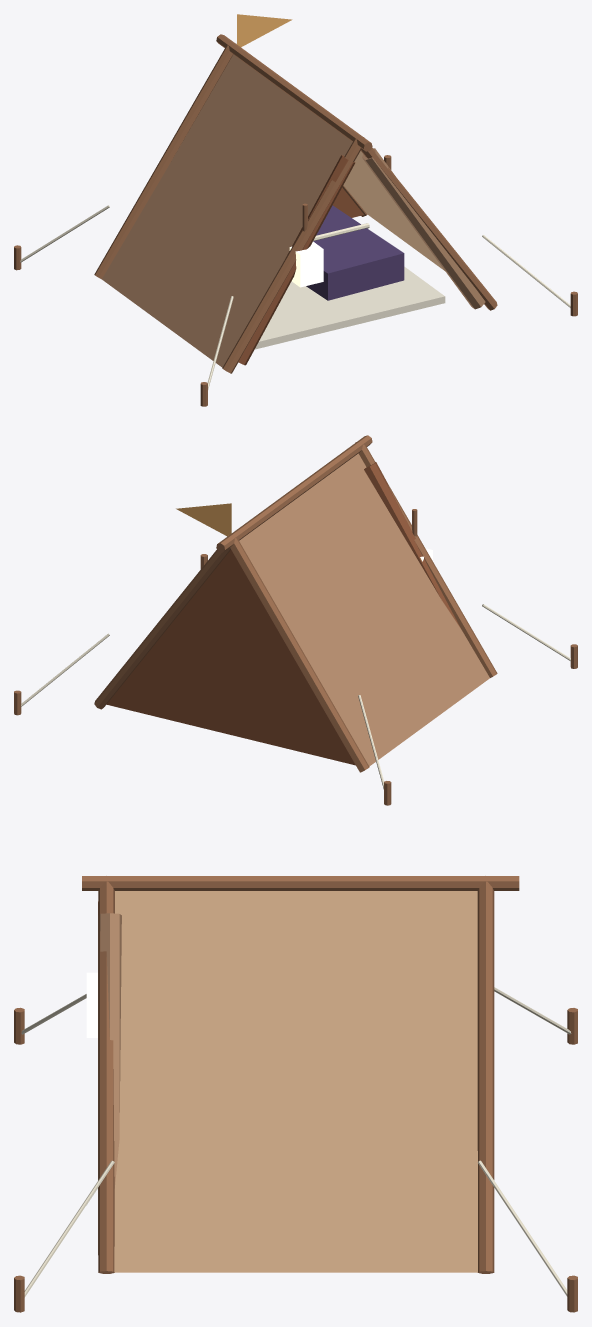
The model's file is harbor_tent.glb.
The picture shows the model from 3 angles, top to bottom: view 1: azimuth 30°, elevation 25°; view 2: azimuth 150°, elevation 25°; view 3: azimuth 270°, elevation 25°; orthographic projection. The views are drawn at different scales.
Parts seen in each view (by area): view 1: Tent_LeftCanvas, Tent_Groundsheet, Tent_Bedroll, Tent_RightCanvas, Tent_BackPole_L, Tent_FrontPole_L, Tent_RightFlap, Tent_RidgePole, Tent_LeftFlap, Tent_FrontPole_R, Tent_LanternBody, Tent_Pennant; view 2: Tent_LeftCanvas, Tent_BackCanvas, Tent_BackPole_L, Tent_BackPole_R, Tent_RidgePole, Tent_FrontPole_L, Tent_LeftFlap, Tent_Pennant; view 3: Tent_RightCanvas, Tent_BackPole_R, Tent_RidgePole, Tent_FrontPole_R, Tent_RightFlap, Tent_LanternBody, Tent_GuyRope_2, Tent_GuyRope_4.
Part boxes in pixels (left/top/right/bottom): Tent_LeftCanvas: left=102, top=55, right=352, bottom=367; Tent_Groundsheet: left=254, top=266, right=445, bottom=349; Tent_Bedroll: left=306, top=205, right=404, bottom=300; Tent_RightCanvas: left=343, top=151, right=445, bottom=271; Tent_BackPole_L: left=94, top=45, right=233, bottom=279; Tent_FrontPole_L: left=222, top=139, right=361, bottom=373; Tent_RightFlap: left=362, top=148, right=485, bottom=309; Tent_RidgePole: left=216, top=34, right=372, bottom=151; Tent_LeftFlap: left=238, top=155, right=355, bottom=365; Tent_FrontPole_R: left=360, top=137, right=497, bottom=310; Tent_LanternBody: left=289, top=241, right=323, bottom=287; Tent_Pennant: left=237, top=14, right=292, bottom=47; Tent_LeftCanvas: left=239, top=453, right=489, bottom=766; Tent_BackCanvas: left=106, top=550, right=355, bottom=765; Tent_BackPole_L: left=230, top=537, right=369, bottom=772; Tent_BackPole_R: left=94, top=535, right=230, bottom=709; Tent_RidgePole: left=216, top=435, right=372, bottom=552; Tent_FrontPole_L: left=358, top=444, right=497, bottom=677; Tent_LeftFlap: left=364, top=462, right=460, bottom=628; Tent_Pennant: left=176, top=503, right=231, bottom=536; Tent_RightCanvas: left=114, top=891, right=477, bottom=1272; Tent_BackPole_R: left=477, top=881, right=494, bottom=1273; Tent_RidgePole: left=82, top=876, right=519, bottom=890; Tent_FrontPole_R: left=98, top=881, right=114, bottom=1273; Tent_RightFlap: left=98, top=913, right=121, bottom=1254; Tent_LanternBody: left=86, top=972, right=97, bottom=1037; Tent_GuyRope_2: left=24, top=1160, right=114, bottom=1297; Tent_GuyRope_4: left=477, top=1160, right=567, bottom=1296.
Size of the model in its own units: 2.89 by 1.72 by 2.53.
